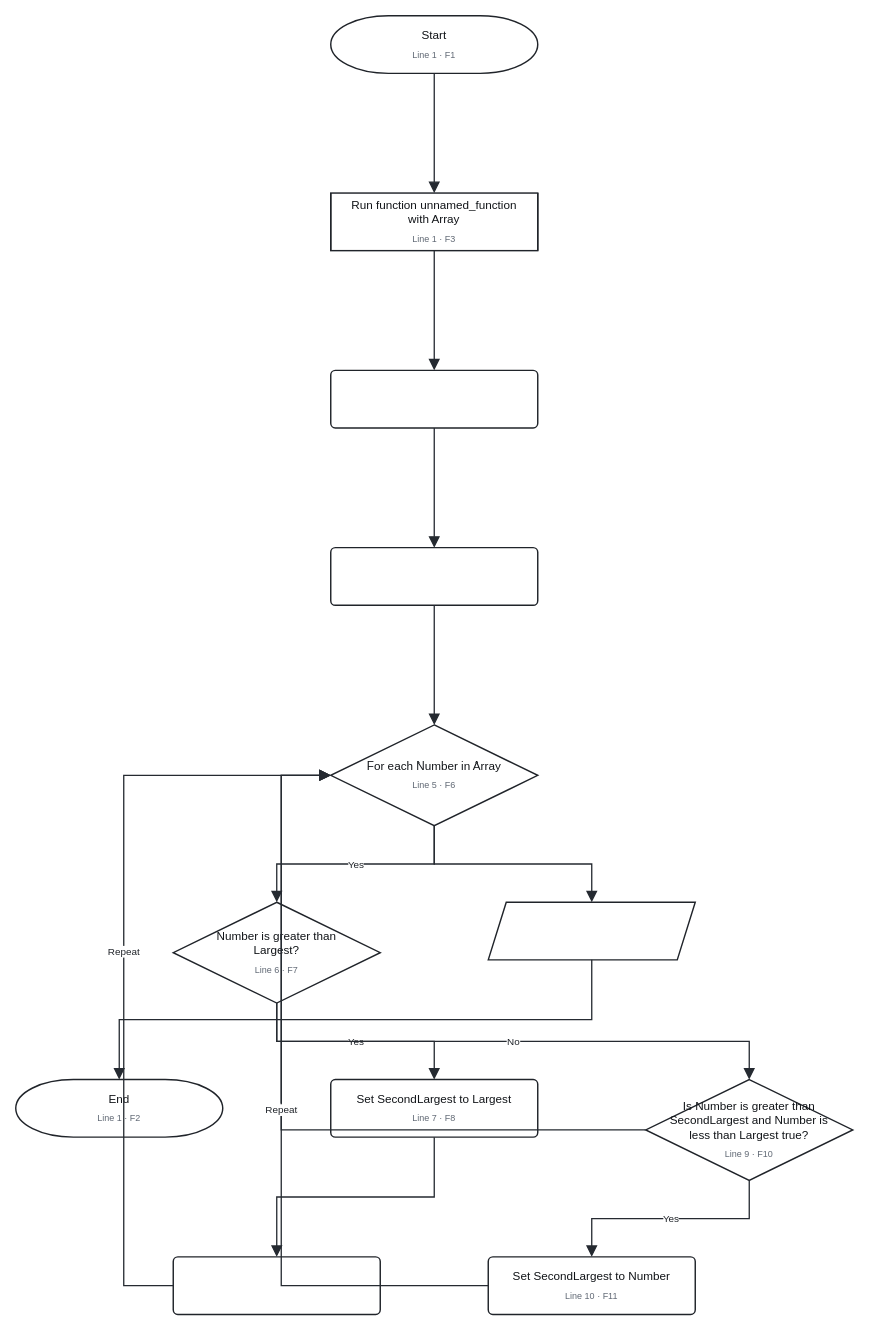
This 869x1331 diagram has some shape labels left out. The centre of each missing label's shape, as x and y in pixels:
Display SecondLargest Line 14 · F12: point (591, 930)
Set Largest to Number Line 8 · F9: point (276, 1285)
Set Largest to the result of negative_infinity() Line 2 · F4: point (434, 398)
Set SecondLargest to the result of negative_infinity() Line 3 · F5: point (434, 576)
